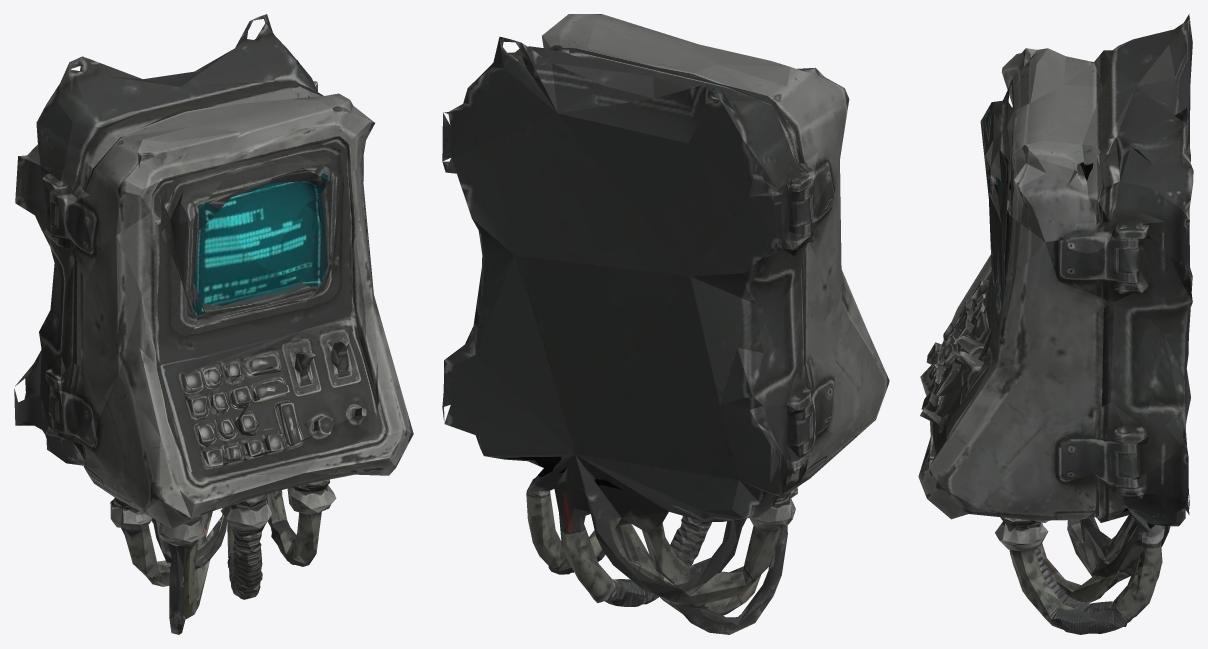
Rendered from terminal.glb.
3 renders of one model, left to right at view 1: azimuth 30°, elevation 25°; view 2: azimuth 150°, elevation 25°; view 3: azimuth 270°, elevation 25°, orthographic. The views are drawn at different scales.
Parts seen in each view (by area): view 1: output_unwrapped; view 2: output_unwrapped; view 3: output_unwrapped.
Boxes of the visible parts, box(x1,y1,x2,y2) form: output_unwrapped: box(14, 14, 413, 634); output_unwrapped: box(442, 14, 889, 634); output_unwrapped: box(918, 14, 1193, 634).
Bounding box in the file's own units: 0.4714 × 0.8 × 0.3518.
1 material, 1 textured.
